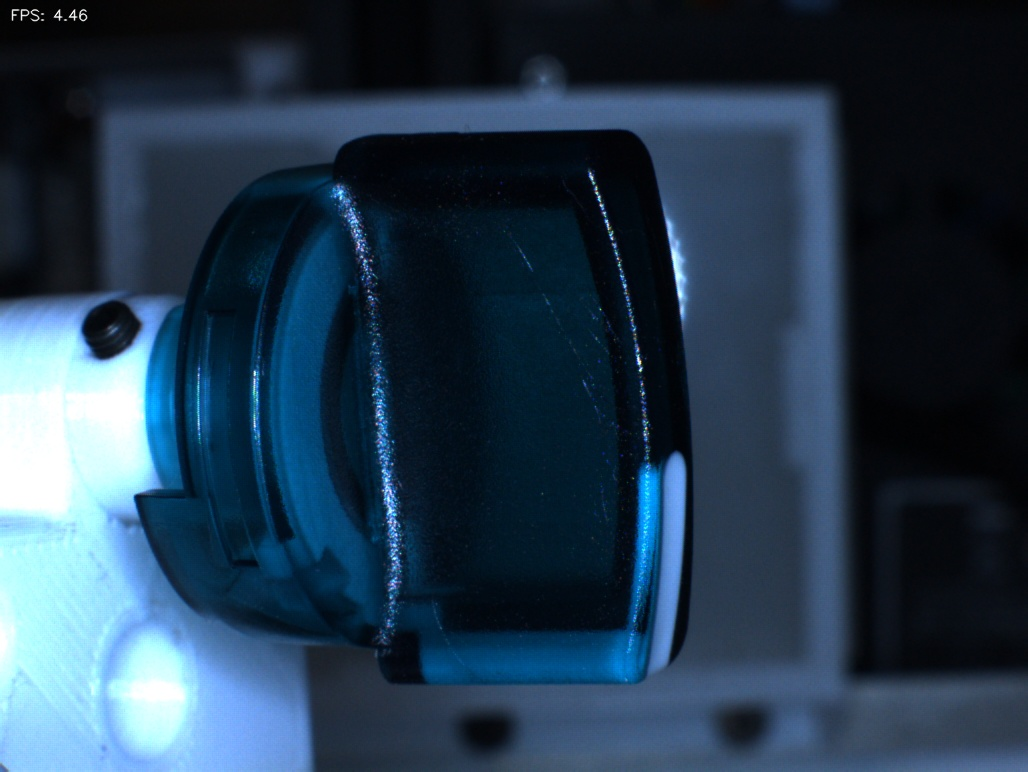Givrage: (529, 281, 635, 432)
